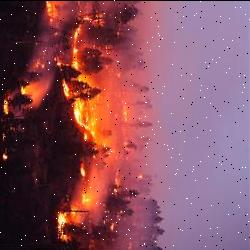fire: (43, 0, 105, 242), (110, 84, 133, 206)
